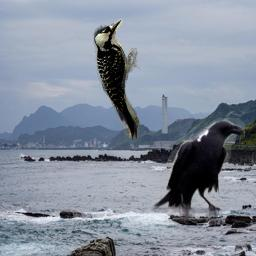Crow: (149, 118, 245, 227)
Woodpecker: (88, 16, 149, 149)
